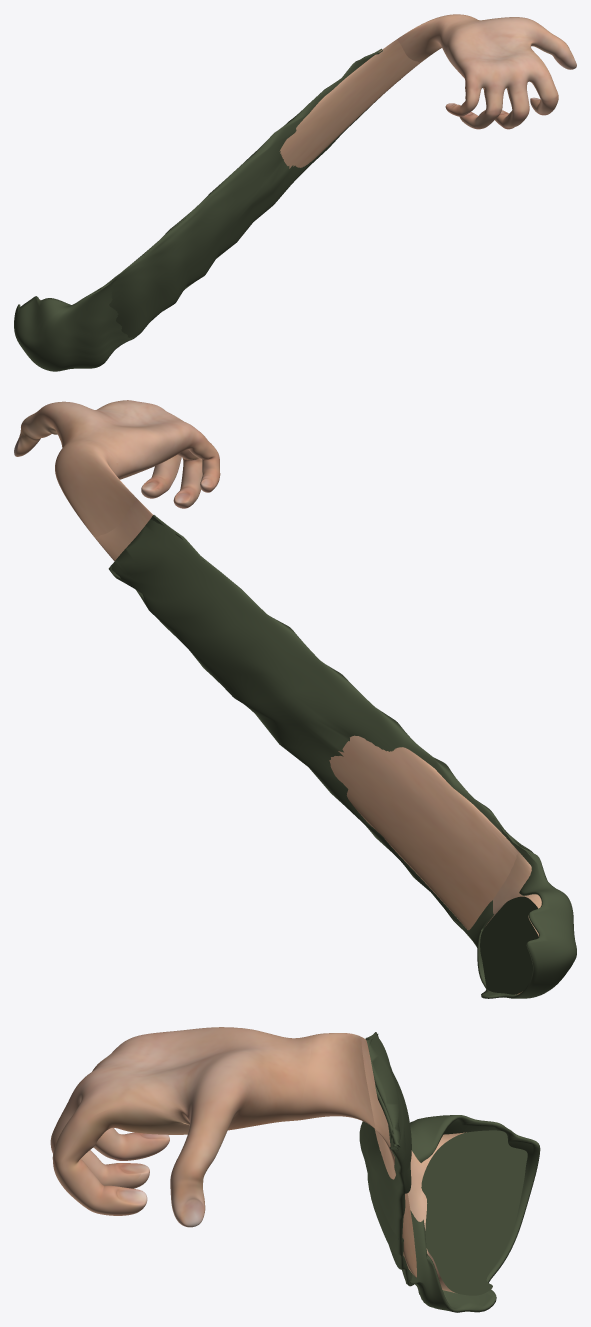
Rendered from SM_AnatomicalRight.fbx.
3 views of the same model, one above another, from view 1: azimuth 30°, elevation 25°; view 2: azimuth 150°, elevation 25°; view 3: azimuth 270°, elevation 25° (orthographic). The views are drawn at different scales.
Parts seen in each view (by area): view 1: Sleeve, SM_AnatomicalRight; view 2: SM_AnatomicalRight, Sleeve; view 3: SM_AnatomicalRight, Sleeve.
Part boxes in pixels (<box>): Sleeve: <box>14,48,400,371</box>; SM_AnatomicalRight: <box>39,14,576,300</box>; SM_AnatomicalRight: <box>14,400,541,994</box>; Sleeve: <box>108,515,576,998</box>; SM_AnatomicalRight: <box>50,1027,527,1295</box>; Sleeve: <box>359,1032,540,1312</box>.
Bounding box in the file's own units: 50.99 × 22.25 × 30.33.
